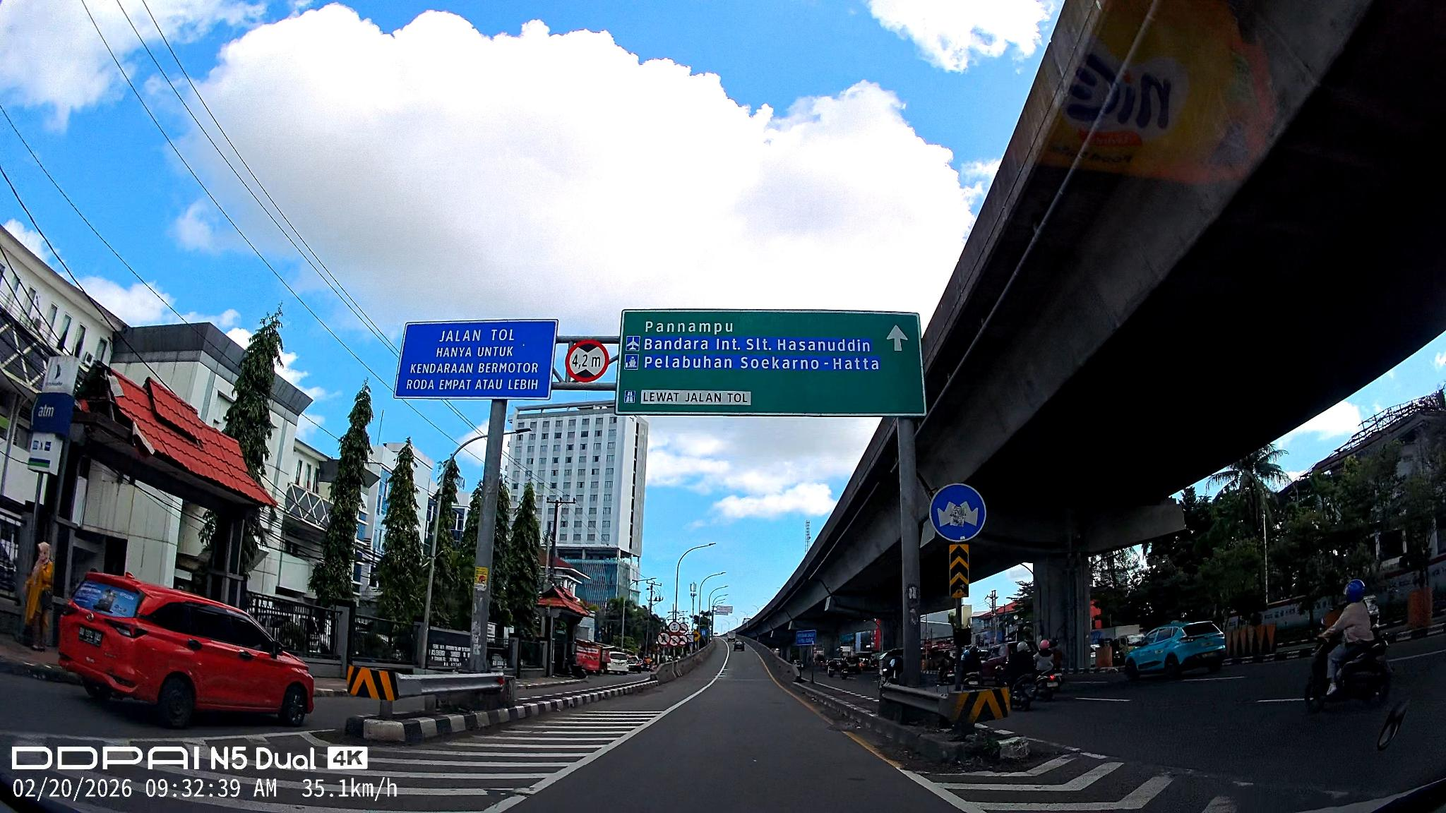rambu_teks: (616, 307, 927, 419), (393, 320, 558, 398)
